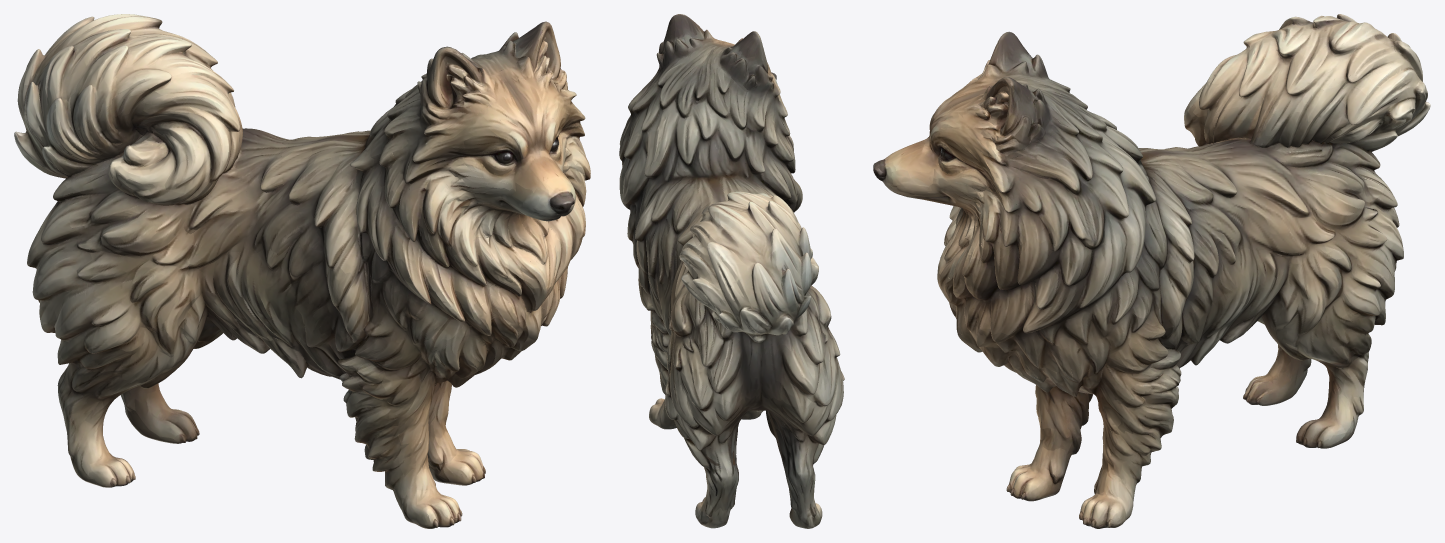
File: German_Spitz_Dog.glb
3 views of the same model, side by side, from view 1: azimuth 30°, elevation 25°; view 2: azimuth 150°, elevation 25°; view 3: azimuth 270°, elevation 25° (orthographic). The views are drawn at different scales.
Parts seen in each view (by area): view 1: output_unwrapped; view 2: output_unwrapped; view 3: output_unwrapped.
Part boxes in pixels (left/top/right/bottom): output_unwrapped: left=14, top=14, right=590, bottom=528; output_unwrapped: left=619, top=14, right=844, bottom=528; output_unwrapped: left=873, top=14, right=1430, bottom=528.
Bounding box in the file's own units: 1.49 × 1.73 × 1.9.
Materials: 1 (1 with a texture image).
